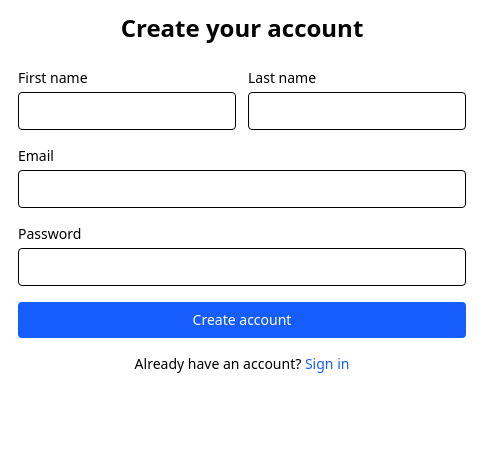
Test: RegisterPage — registration failure › shows error message and leaves store unchanged on 400
Type "Jane" into the field labelled "First name" at coordinates (127, 111), box [18,92,236,130]
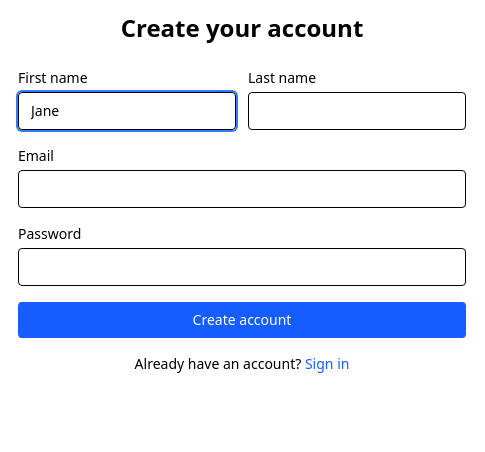
Type "Doe" into the field labelled "Last name" at coordinates (357, 111), box [248,92,466,130]
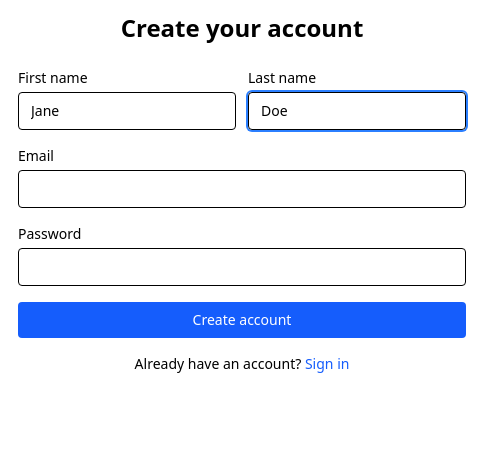
Type "existing@test.com" into the field labelled "Email" at coordinates (242, 189), box [18,170,466,208]
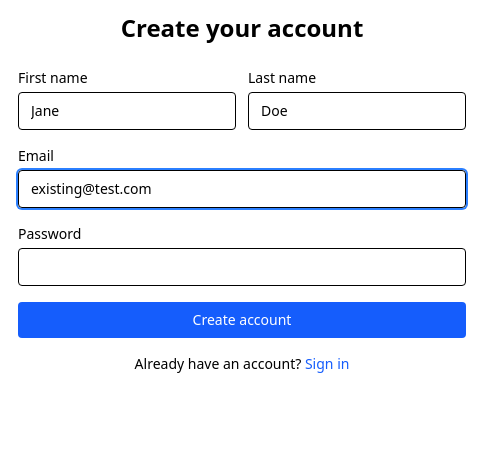
Type "Password1!" into the password field labelled "Password" at coordinates (242, 267), box [18,248,466,286]
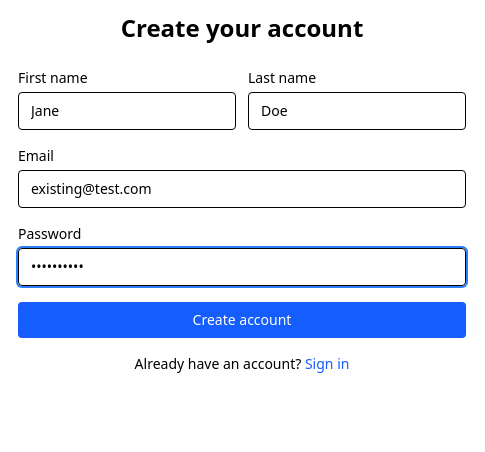
Click the button "Create account" at coordinates (242, 320), box [18,302,466,338]
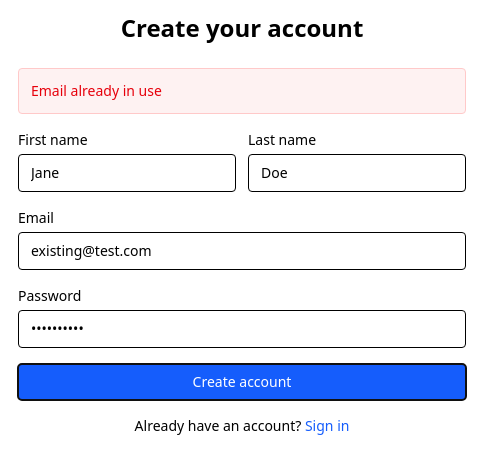
Expected: the text "Email already in use" is shown, [18,68,466,114]
